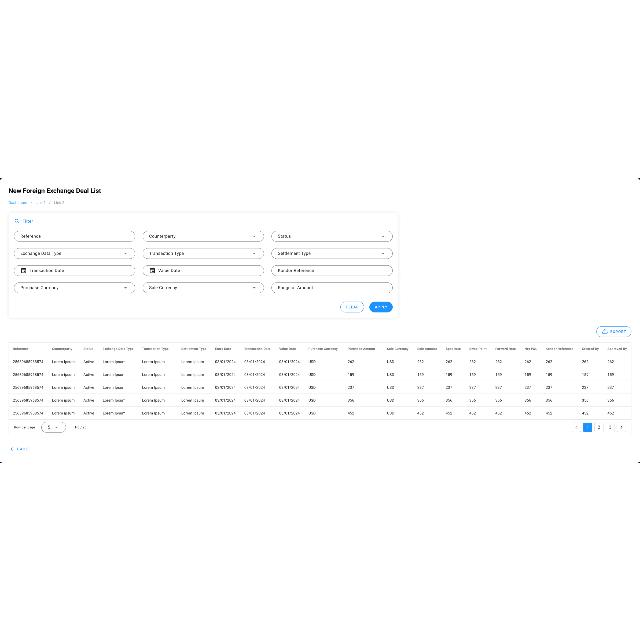QLabel: (8, 186, 102, 194), (610, 328, 626, 334), (344, 304, 360, 308), (374, 304, 390, 308), (22, 218, 34, 222), (16, 446, 28, 450)
VBreadcrumbs: (7, 199, 68, 205)
VBtn: (596, 326, 632, 336), (340, 300, 364, 312), (369, 300, 393, 312)
VCard: (8, 211, 398, 319)
VCombobox: (142, 246, 264, 258), (272, 229, 392, 241), (142, 230, 264, 240), (142, 282, 264, 292), (15, 248, 136, 258), (15, 282, 136, 292), (272, 248, 392, 258)
VDataTable: (7, 340, 633, 436)
VIcon: (12, 216, 20, 224), (600, 328, 608, 334), (10, 446, 14, 450)
VInlineDatepicker: (142, 263, 264, 275), (15, 263, 136, 275)
VTextField: (271, 280, 393, 294), (14, 230, 134, 240), (272, 265, 392, 275)
